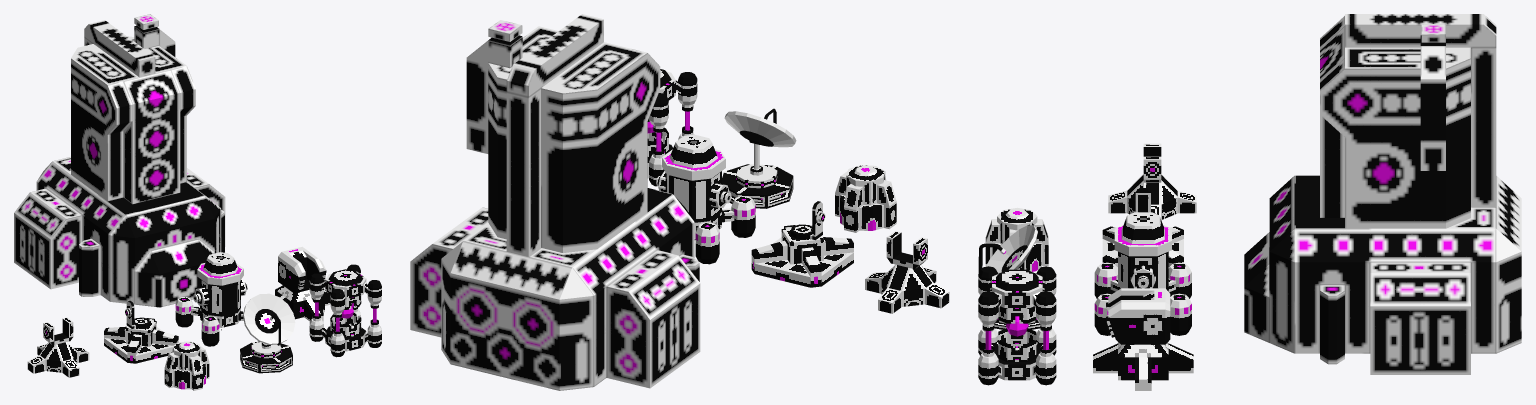
File: Towers.fbx
The picture shows the model from 3 angles, left to right: view 1: azimuth 30°, elevation 25°; view 2: azimuth 150°, elevation 25°; view 3: azimuth 270°, elevation 25°; orthographic projection. The views are drawn at different scales.
Visible parts, largest first — view 1: MainReactor, Healer.001, FlameThrower.002, GatlingGun.001, Overclocker.002, SubReactor, Cannon.002, RocketLauncher.001, FlameThrower.001, Overclocker.001, Cannon.001, RocketLauncher.002 (+1 smaller); view 2: MainReactor, FlameThrower.002, GatlingGun.001, SubReactor, RocketLauncher.001, Healer.001, Overclocker.001, FlameThrower.001, Overclocker.002, RocketLauncher.002, GatlingGun.002; view 3: MainReactor, Healer.001, FlameThrower.002, Cannon.002, Cannon.001, FlameThrower.001, SubReactor, RocketLauncher.001, Overclocker.002, GatlingGun.001, RocketLauncher.002.
Part boxes in pixels (x1,y1,x2,y2): MainReactor: (14,14,225,307); Healer.001: (309,264,381,357); FlameThrower.002: (193,252,247,316); GatlingGun.001: (104,318,178,363); Overclocker.002: (243,293,295,348); SubReactor: (164,341,209,390); Cannon.002: (278,246,326,293); RocketLauncher.001: (27,342,89,377); FlameThrower.001: (175,297,243,346); Overclocker.001: (240,341,292,373); Cannon.001: (275,285,330,321); RocketLauncher.002: (43,317,73,345); MainReactor: (410,14,700,390); FlameThrower.002: (656,134,731,222); GatlingGun.001: (751,225,853,287); SubReactor: (835,165,896,232); RocketLauncher.001: (865,264,949,313); Healer.001: (647,69,697,186); Overclocker.001: (722,164,793,208); FlameThrower.001: (694,196,755,264); Overclocker.002: (724,108,796,175); RocketLauncher.002: (886,231,927,269); GatlingGun.002: (790,201,825,240); MainReactor: (1244,14,1521,374); Healer.001: (978,266,1056,385); FlameThrower.002: (1114,212,1171,291); Cannon.002: (1106,288,1170,344); Cannon.001: (1093,342,1193,390); FlameThrower.001: (1094,262,1191,335); SubReactor: (985,207,1048,271); RocketLauncher.001: (1108,174,1196,219); Overclocker.002: (978,225,1037,273); GatlingGun.001: (1102,226,1183,268); RocketLauncher.002: (1143,143,1161,182).
Size of the model in its own units: 469 by 340 by 539.
